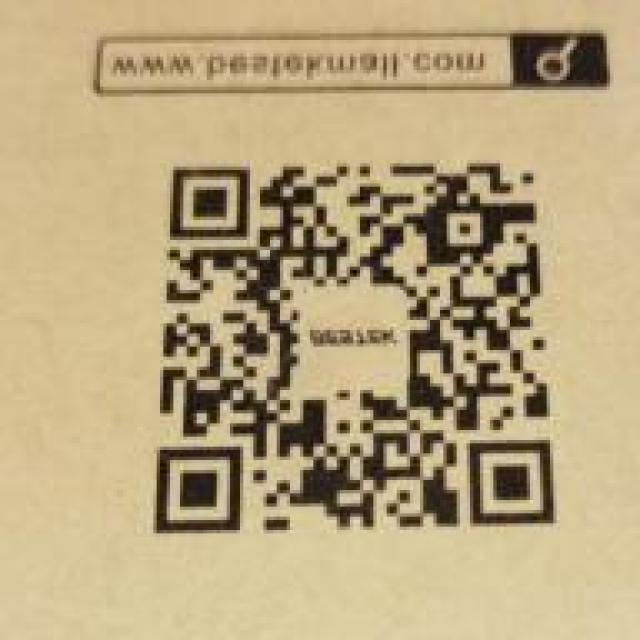QR_CODE: (130, 140, 583, 553)
